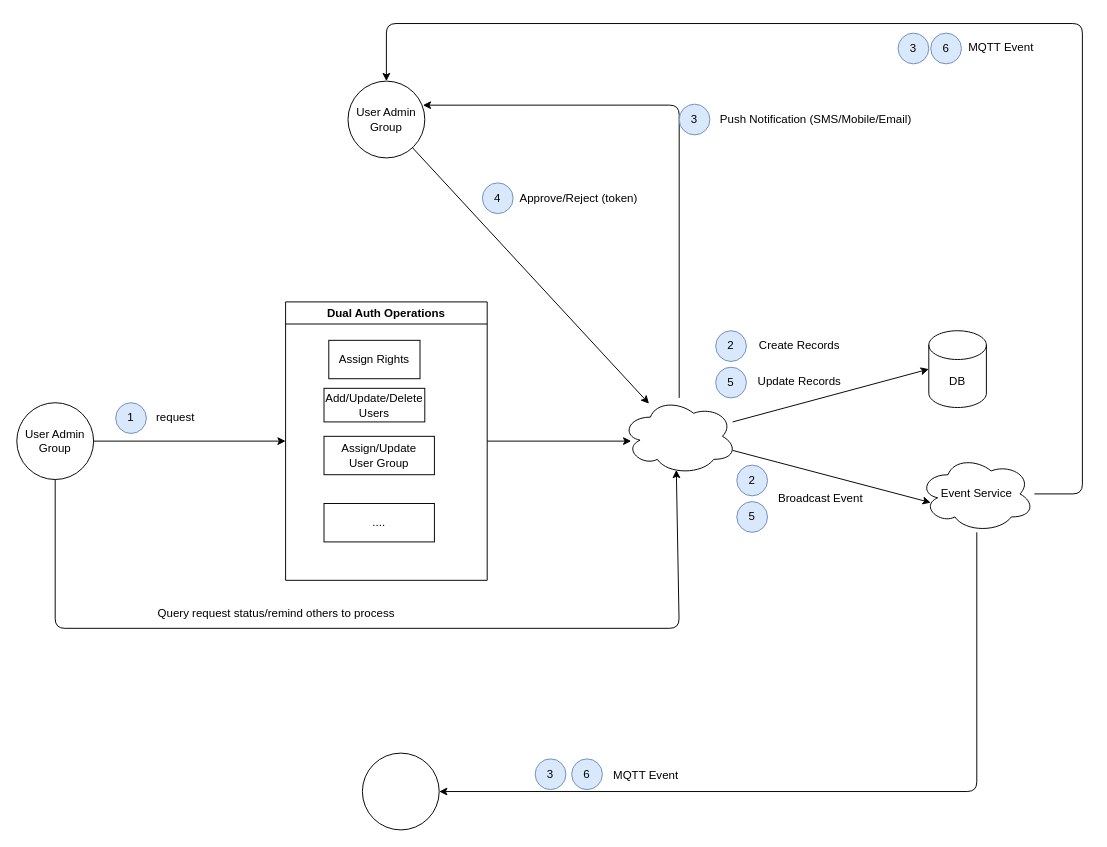
Image size: 1107x847. Some labels were removed from this diagram. Each missing label, with the centre of its shape:
Server: point (679, 436)
Target User: point (400, 791)
